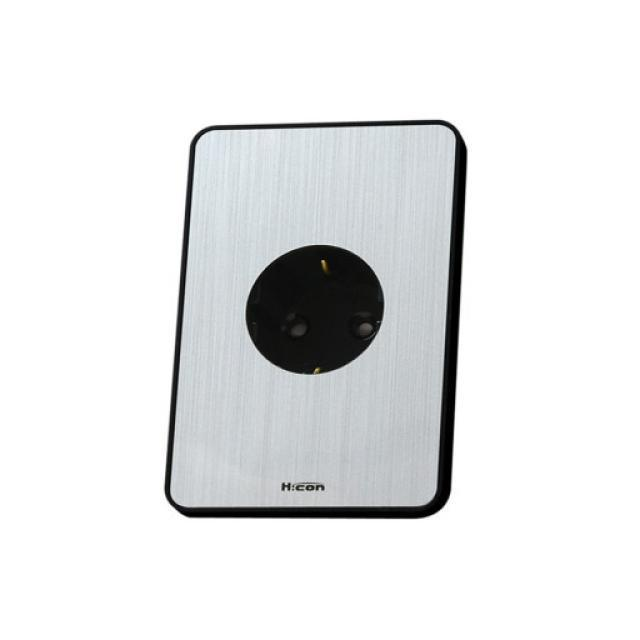typeb: (111, 59, 533, 574)
